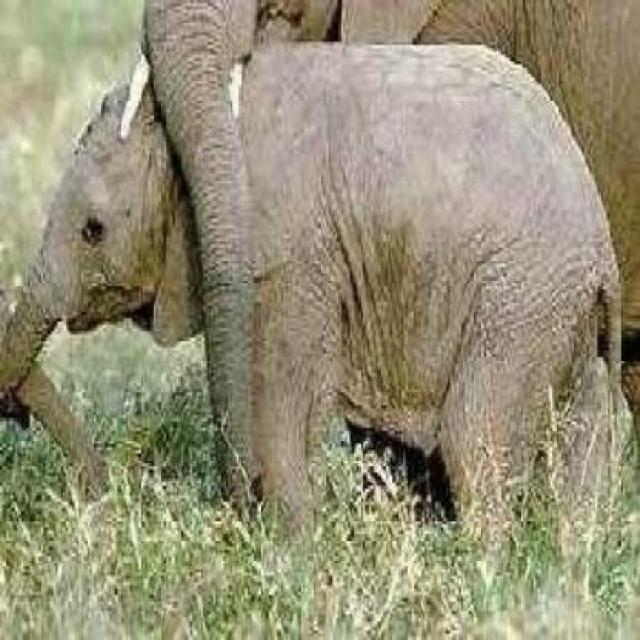Elephant: (25, 4, 628, 567)
